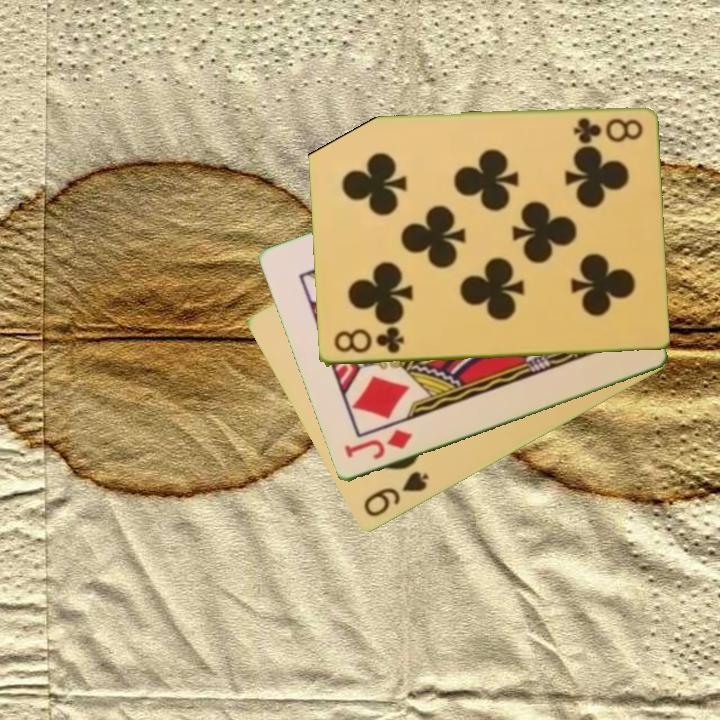8c: (330, 325, 407, 357), (569, 114, 645, 144)
9s: (360, 468, 432, 521)
Jd: (340, 426, 415, 463)
